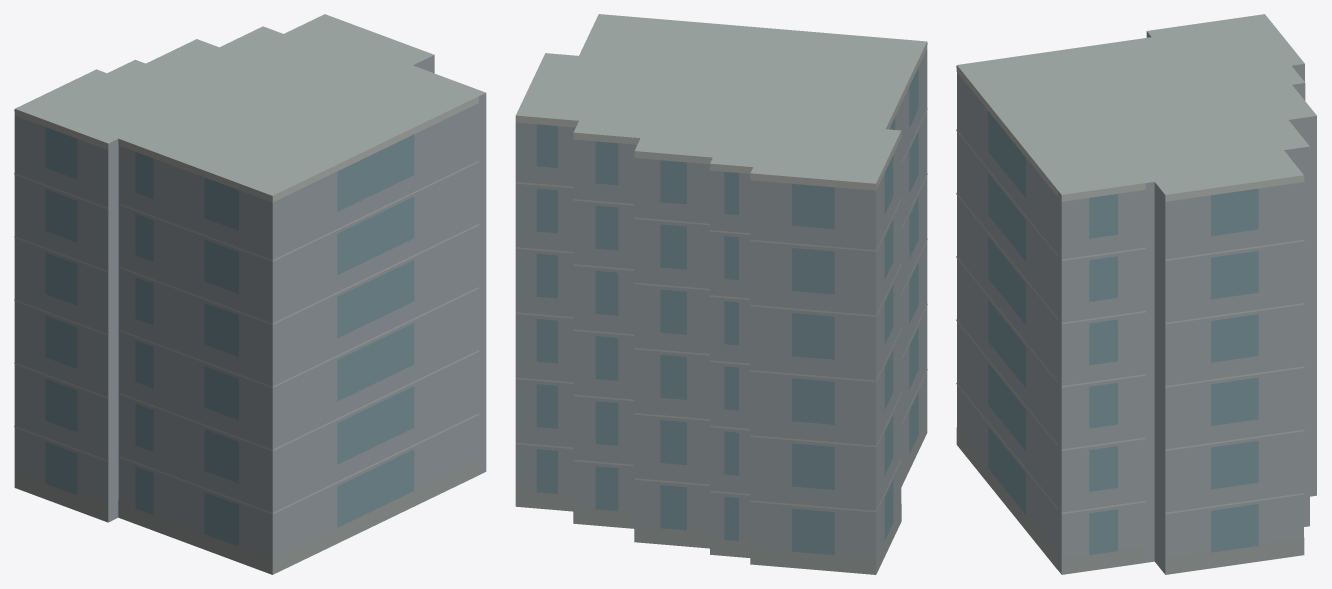
The model's file is survey-upis-32613900.glb.
3 views of the same model, side by side, from view 1: azimuth 30°, elevation 25°; view 2: azimuth 150°, elevation 25°; view 3: azimuth 270°, elevation 25° (orthographic). The views are drawn at different scales.
Parts seen in each view (by area): view 1: survey-upis-32613900.tmp; view 2: survey-upis-32613900.tmp; view 3: survey-upis-32613900.tmp.
Boxes of the visible parts, x1,y1,x2,y2 form: survey-upis-32613900.tmp: (14, 14, 486, 574); survey-upis-32613900.tmp: (515, 14, 927, 574); survey-upis-32613900.tmp: (956, 14, 1316, 574).
Size of the model in its own units: 14.03 by 13.7 by 11.8.
